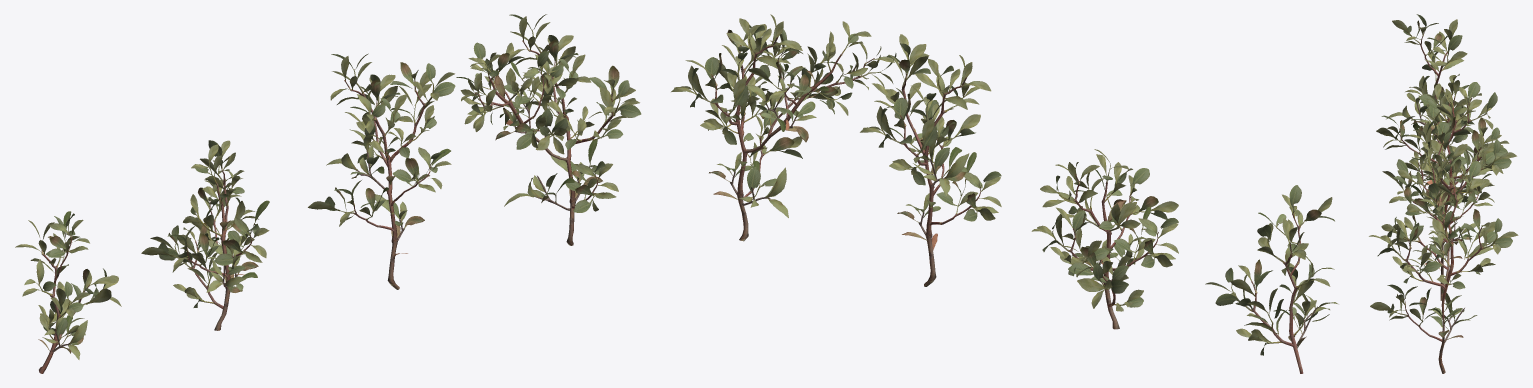
File: shrub_04.l.92c9a592.glb
3 renders of one model, left to right at view 1: azimuth 30°, elevation 25°; view 2: azimuth 150°, elevation 25°; view 3: azimuth 270°, elevation 25°, orthographic. The views are drawn at different scales.
Parts seen in each view (by area): view 1: shrub_04; view 2: shrub_04; view 3: shrub_04.
Part boxes in pixels (bbox=[...]): shrub_04: bbox=[15, 14, 641, 373]; shrub_04: bbox=[671, 14, 1338, 373]; shrub_04: bbox=[1369, 14, 1518, 373].
Bounding box in the file's own units: 0.5837 × 0.2192 × 0.1461.
Materials: 1 (1 with a texture image).
